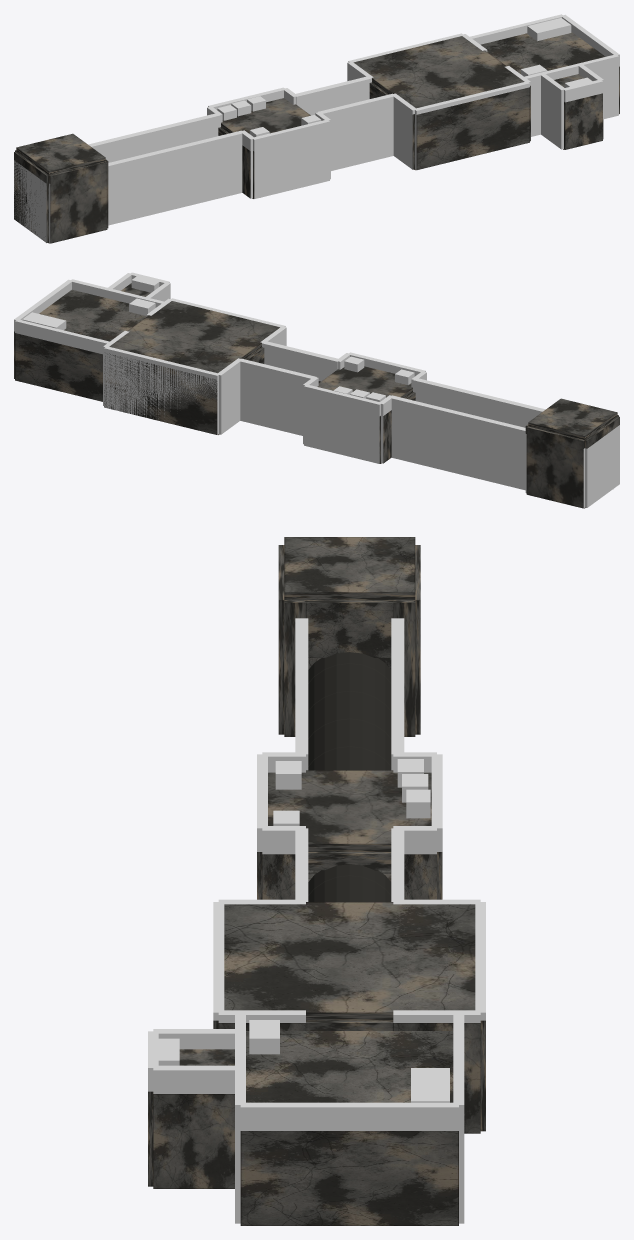
The model's file is undercroft.glb.
3 renders of one model, top to bottom at view 1: azimuth 30°, elevation 25°; view 2: azimuth 150°, elevation 25°; view 3: azimuth 270°, elevation 25°, orthographic. The views are drawn at different scales.
Parts seen in each view (by area): view 1: Undercroft_Shell, COL_UC_cv1_n, COL_UC_store_n0, COL_UC_cv2_n, COL_UC_cv1_s, COL_UC_shaft_w0, COL_UC_cv2_s, COL_UC_nook_w0, COL_UC_sky_w1, COL_UC_bed_n1, COL_UC_sky_n0, COL_UC_bed_s0 (+8 smaller); view 2: Undercroft_Shell, COL_UC_cv1_s, COL_UC_sky_s0, COL_UC_store_s0, COL_UC_cv2_s, COL_UC_cv1_n, COL_UC_shaft_w0, COL_UC_cv2_n, COL_UC_sky_w0, COL_UC_bed_s0, COL_UC_bed_e0, COL_UC_store_n0 (+6 smaller); view 3: Undercroft_Shell, COL_UC_bed_e0, COL_UC_nook_e0, COL_UC_cv1_n, COL_UC_cv1_s, COL_UC_bed_s0, COL_UC_nook_w0, COL_UC_sky_n0, COL_UC_bed, COL_UC_sky_s0, COL_UC_bed_n1, COL_UC_table (+6 smaller).
Boxes of the visible parts, x1,y1,x2,y2 form: Undercroft_Shell: [14, 32, 619, 243]; COL_UC_cv1_n: [108, 130, 242, 225]; COL_UC_store_n0: [253, 120, 329, 198]; COL_UC_cv2_n: [317, 93, 393, 170]; COL_UC_cv1_s: [88, 113, 220, 162]; COL_UC_shaft_w0: [14, 160, 46, 242]; COL_UC_cv2_s: [296, 76, 371, 115]; COL_UC_nook_w0: [541, 73, 564, 149]; COL_UC_sky_w1: [391, 93, 415, 169]; COL_UC_bed_n1: [578, 55, 618, 118]; COL_UC_sky_n0: [414, 81, 529, 169]; COL_UC_bed_s0: [467, 14, 563, 44]; Undercroft_Shell: [14, 283, 619, 508]; COL_UC_cv1_s: [391, 395, 525, 490]; COL_UC_sky_s0: [104, 346, 219, 434]; COL_UC_store_s0: [304, 385, 380, 463]; COL_UC_cv2_s: [240, 358, 316, 435]; COL_UC_cv1_n: [413, 378, 545, 427]; COL_UC_shaft_w0: [585, 425, 619, 507]; COL_UC_cv2_n: [262, 341, 337, 381]; COL_UC_sky_w0: [218, 358, 242, 434]; COL_UC_bed_s0: [15, 319, 111, 354]; COL_UC_bed_e0: [14, 279, 72, 331]; COL_UC_store_n0: [349, 352, 425, 376]; Undercroft_Shell: [148, 537, 485, 1225]; COL_UC_bed_e0: [240, 1102, 458, 1130]; COL_UC_nook_e0: [153, 1065, 240, 1093]; COL_UC_cv1_n: [295, 618, 308, 770]; COL_UC_cv1_s: [391, 618, 404, 770]; COL_UC_bed_s0: [453, 1012, 464, 1223]; COL_UC_nook_w0: [153, 1029, 240, 1049]; COL_UC_sky_n0: [213, 902, 224, 1020]; COL_UC_bed: [411, 1068, 449, 1102]; COL_UC_sky_s0: [475, 902, 485, 1020]; COL_UC_bed_n1: [235, 1068, 245, 1223]; COL_UC_table: [249, 1020, 279, 1054].
Bounding box in the file's own units: 29.75 × 3.76 × 7.75.
Materials: 13 (4 with a texture image).
